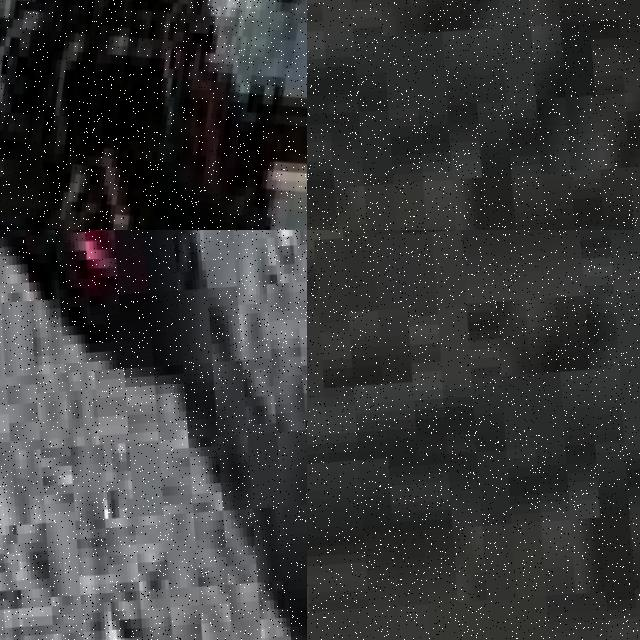drone: (0, 0, 307, 230)
